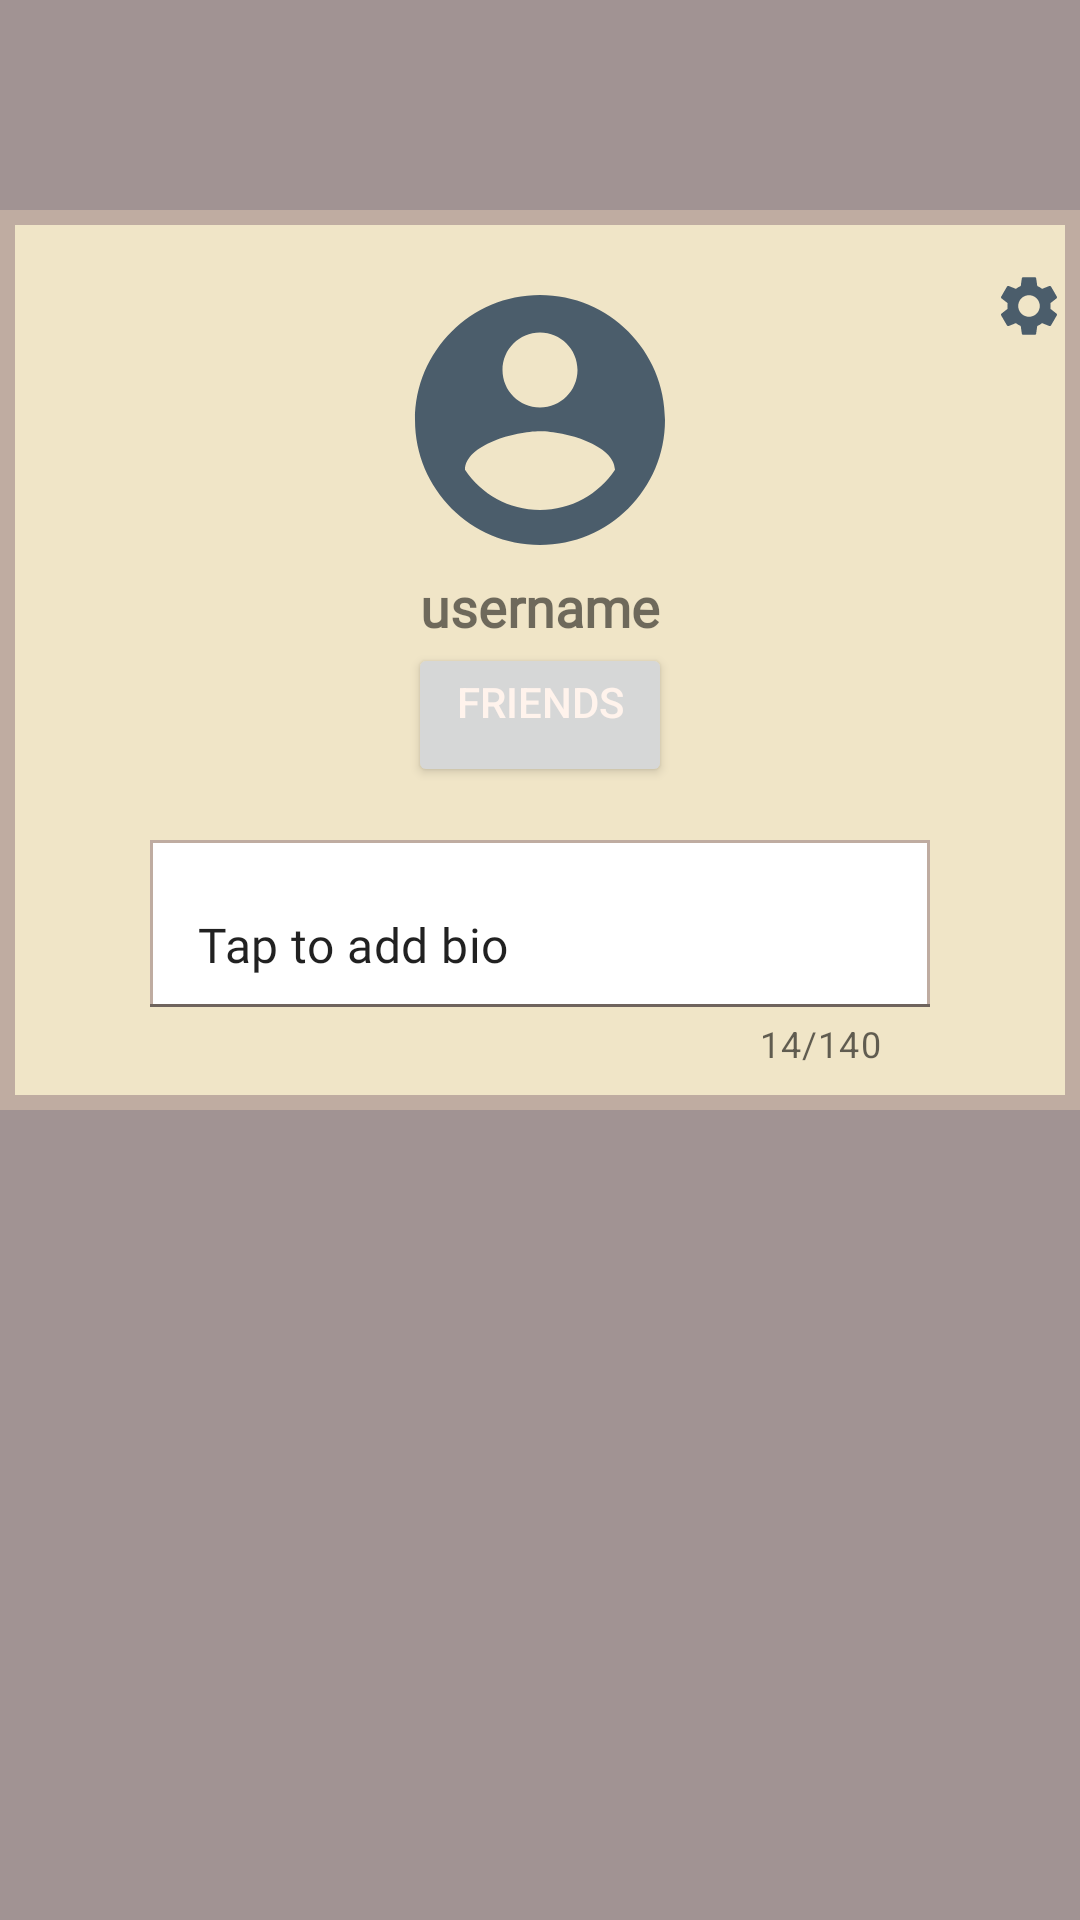

Where icons sit on this 1080x1920 app screen, as (x1, y1, x2, y2):
account circle: (415, 295, 665, 545)
settings: (1001, 277, 1057, 335)
